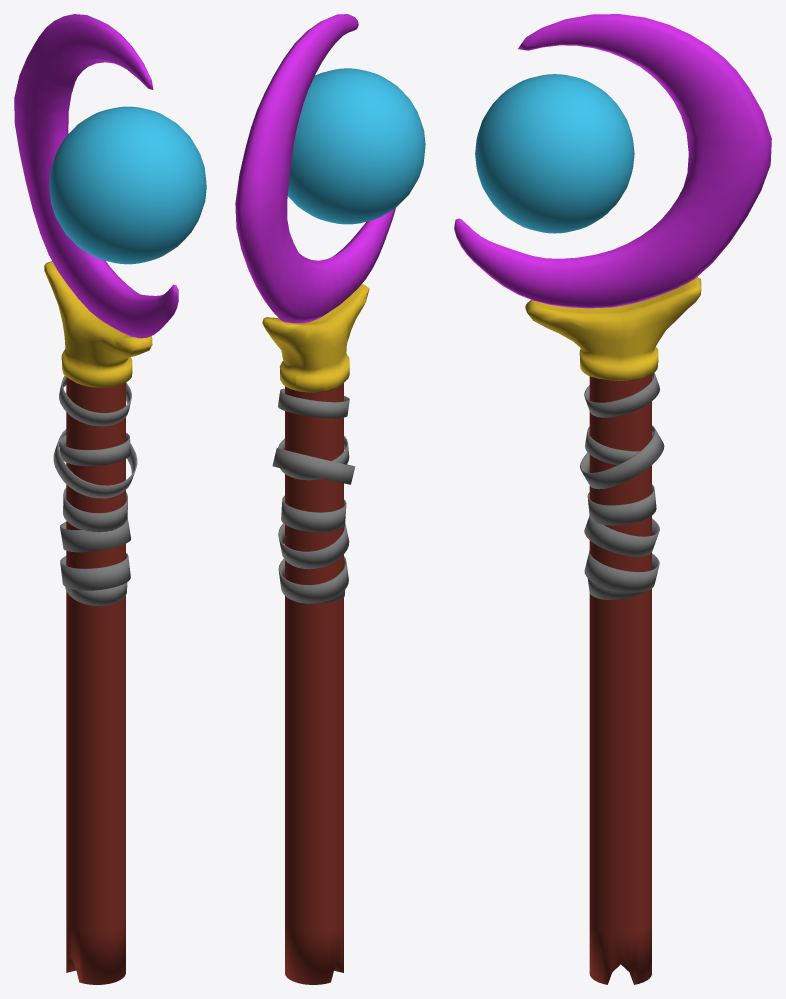
Rendered from bastonseparado.fbx.
3 renders of one model, left to right at view 1: azimuth 30°, elevation 25°; view 2: azimuth 150°, elevation 25°; view 3: azimuth 270°, elevation 25°, orthographic. The views are drawn at different scales.
Parts seen in each view (by area): view 1: Baston; view 2: Baston; view 3: Baston.
Boxes of the visible parts, x1,y1,x2,y2 form: Baston: (14, 14, 206, 984); Baston: (235, 14, 425, 984); Baston: (454, 14, 771, 984).
Bounding box in the file's own units: 50.59 × 336 × 101.
